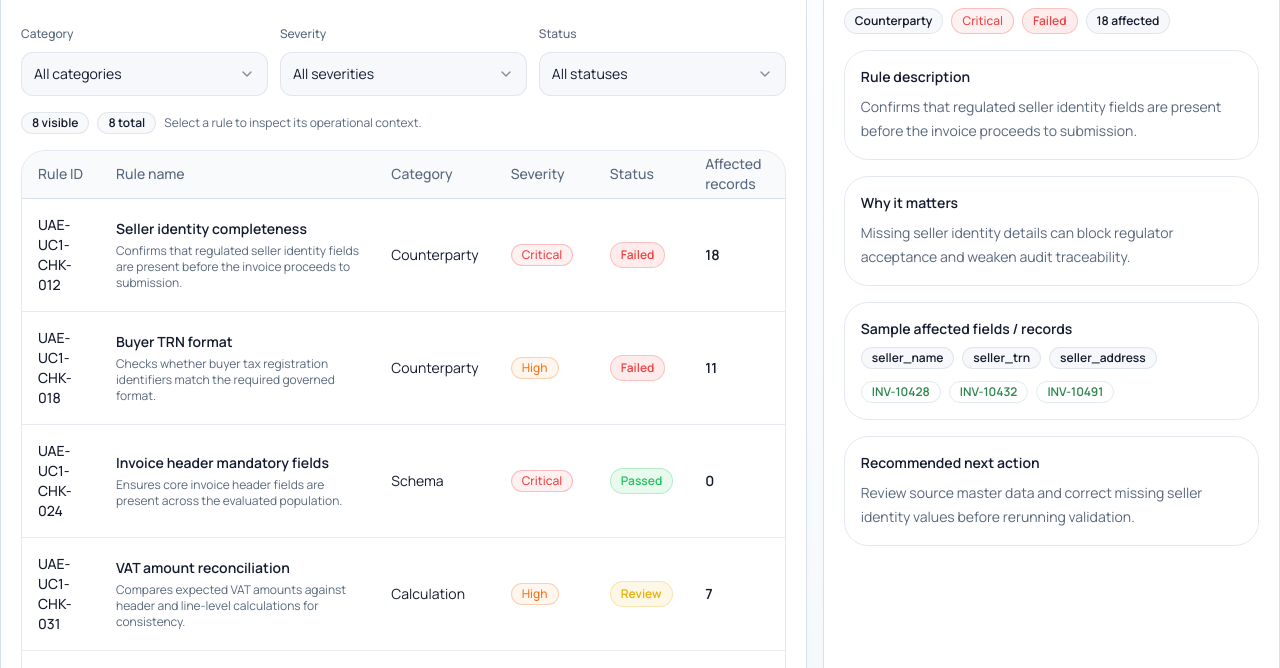
Test: ValidationPage › renders the validation workspace and updates the detail panel for the selected rule
(page scrolled)
Expected: the column heading "Rule ID" is shown, [22,150,100,198]
Expected: the column heading "Affected records" is shown, [689,150,785,198]
Click the text "Buyer TRN format" at coordinates (174, 342), box [116,332,233,351]
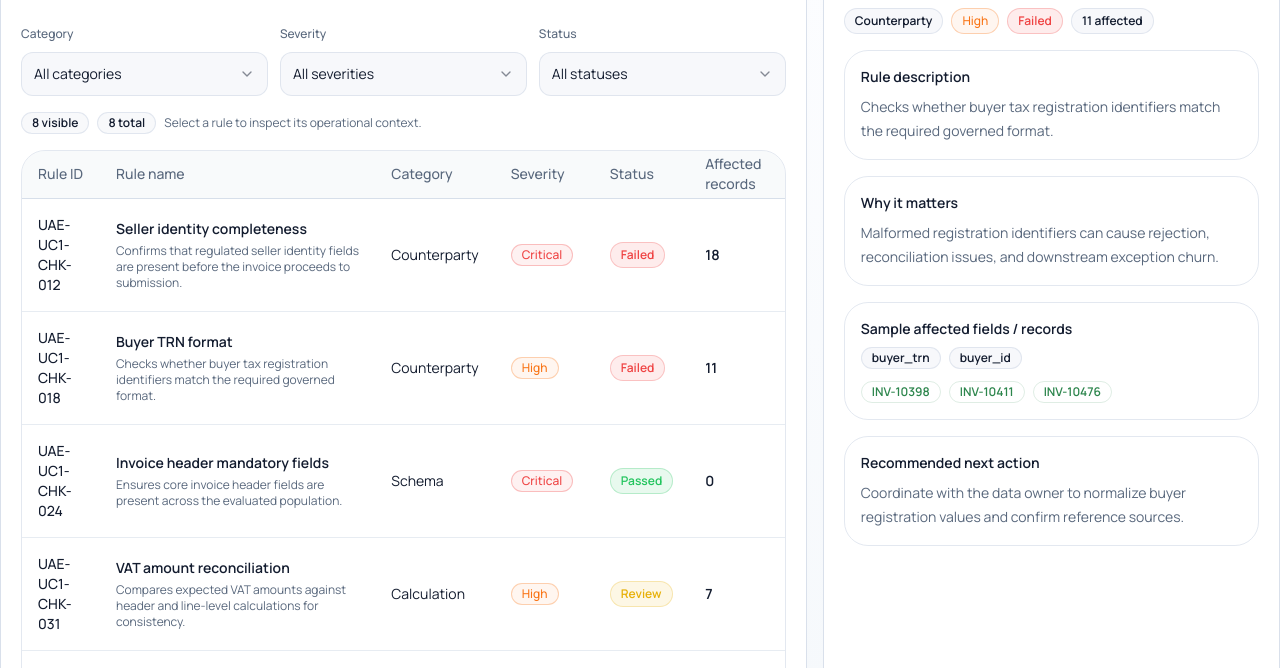
Expected: the text "Why it matters" is shown, [861,193,958,212]
Now the text "buyer_trn" is shown, box [861,347,941,369]
